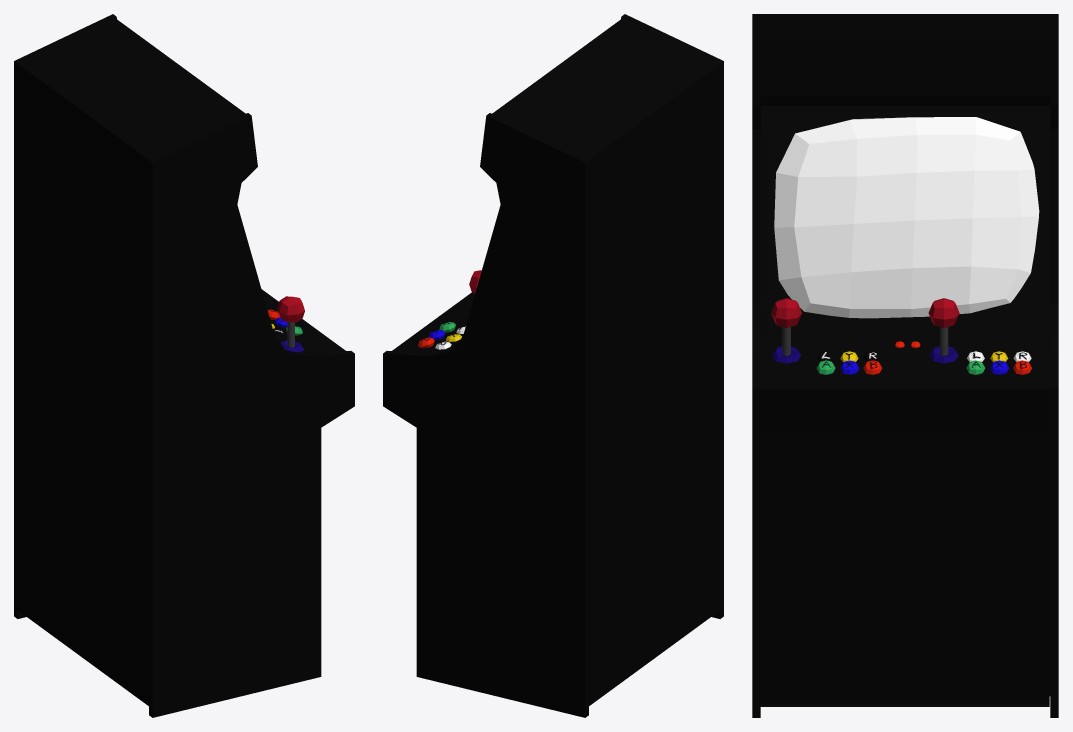
File: ludwig.glb
The picture shows the model from 3 angles, left to right: view 1: azimuth 30°, elevation 25°; view 2: azimuth 150°, elevation 25°; view 3: azimuth 270°, elevation 25°; orthographic projection. The views are drawn at different scales.
Parts seen in each view (by area): view 1: arcadestl, joystick.004; view 2: arcadestl; view 3: arcadestl, Cube.003, joystick.004, joystick.005.
Boxes of the visible parts, <box> form: arcadestl: <box>14,14,354,717</box>; joystick.004: <box>277,296,304,352</box>; arcadestl: <box>383,14,723,717</box>; arcadestl: <box>752,14,1058,717</box>; Cube.003: <box>774,117,1039,318</box>; joystick.004: <box>771,298,801,363</box>; joystick.005: <box>928,298,959,363</box>.
Bounding box in the file's own units: 5.52 × 15.09 × 6.56.
18 materials, 14 textured.
